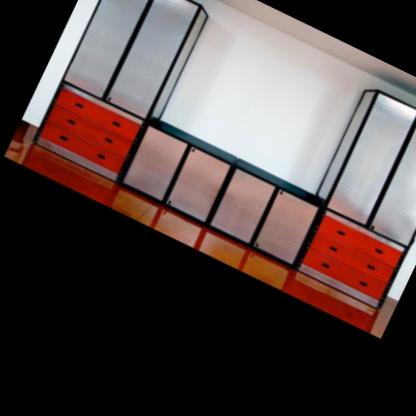Cabinet: (114, 121, 322, 269), (292, 209, 406, 312), (30, 80, 144, 182)
